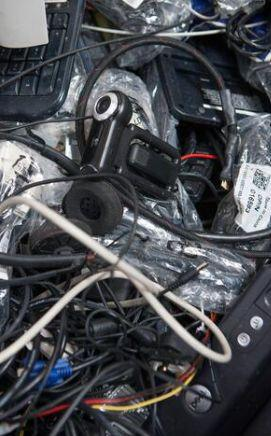electronic: (152, 262, 269, 436), (54, 91, 183, 239), (0, 4, 84, 122), (155, 51, 226, 127), (232, 162, 271, 233)
